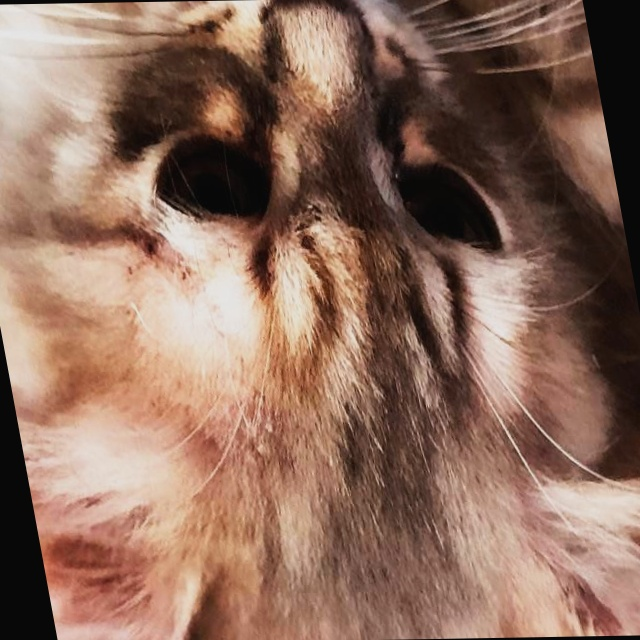hairloss: (158, 235, 266, 348)
